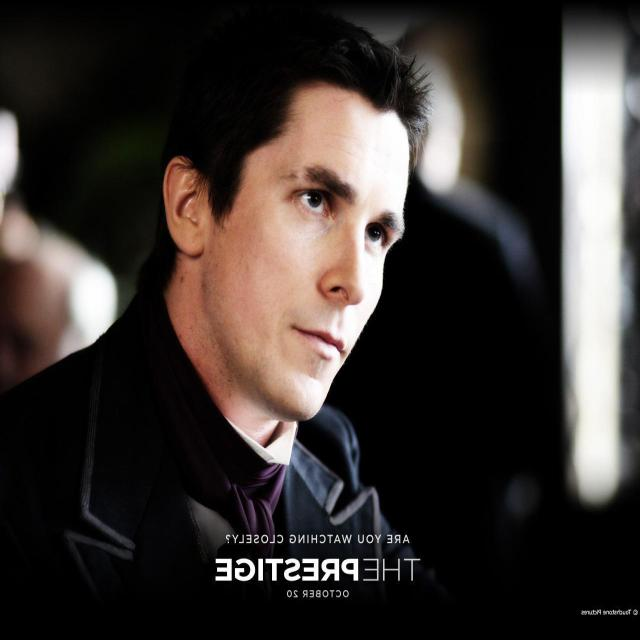no-earmuff: (150, 140, 223, 275)
